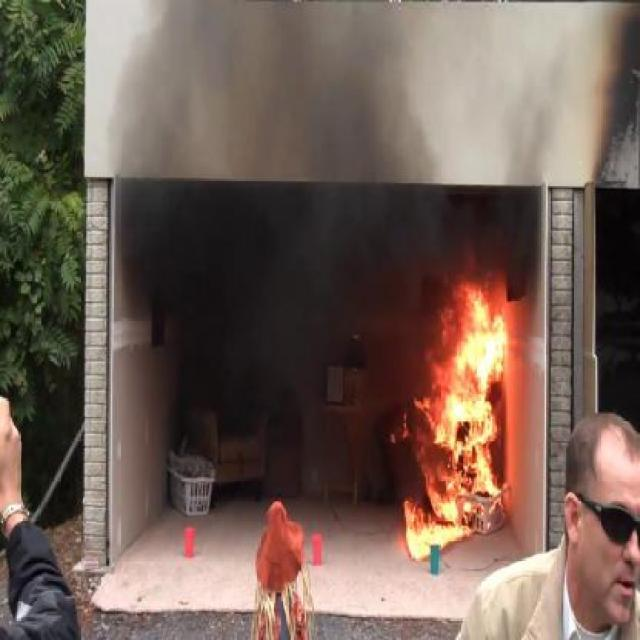fire: (414, 252, 508, 558)
smoke: (220, 166, 368, 440)
